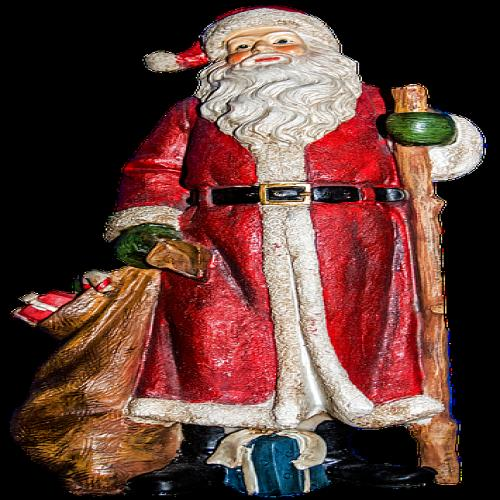Santa: (110, 8, 484, 496)
